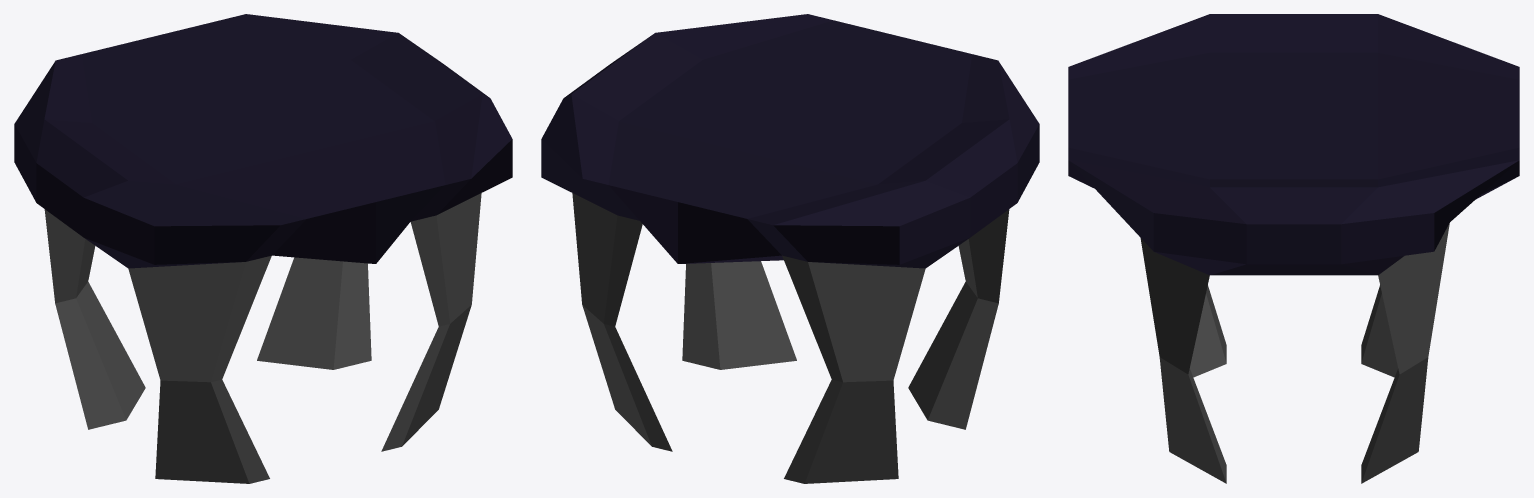
Rendered from space_table_pt.fbx.
The picture shows the model from 3 angles, left to right: view 1: azimuth 30°, elevation 25°; view 2: azimuth 150°, elevation 25°; view 3: azimuth 270°, elevation 25°; orthographic projection.
Parts seen in each view (by area): view 1: Cube; view 2: Cube; view 3: Cube.
Part boxes in pixels (box(x1,y1,x2,y2)): Cube: box(14, 14, 512, 483); Cube: box(541, 14, 1039, 483); Cube: box(1068, 14, 1519, 483).
Bounding box in the file's own units: 734 × 540 × 703.
